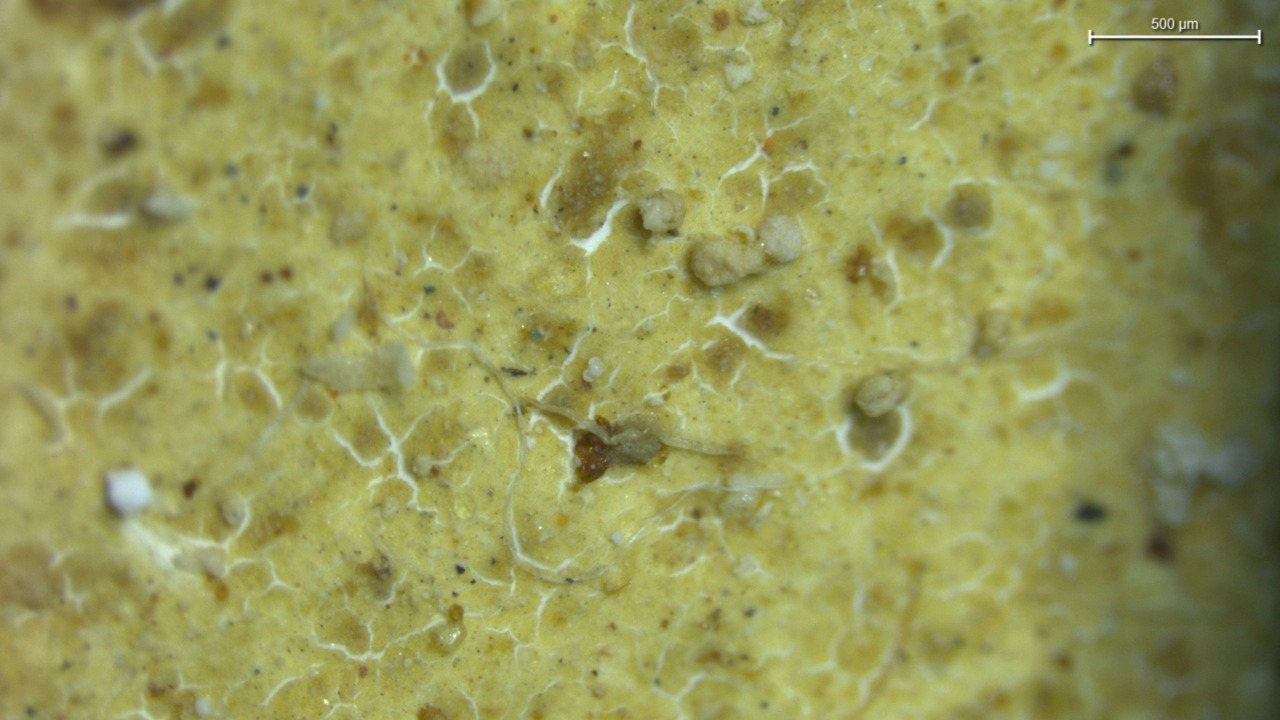microplastic_fragment: (687, 239, 766, 287), (638, 190, 685, 234)
